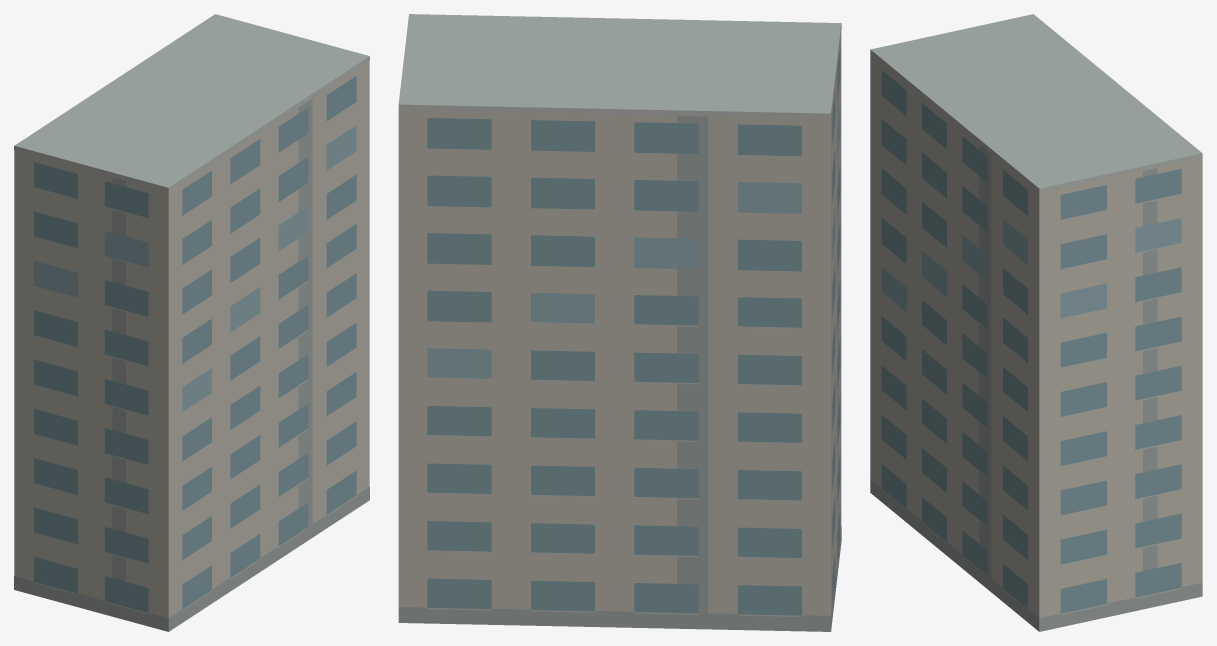
The model's file is residential-63eb0553-5158-4fc5-a041-9ebccf070c29.glb.
3 views of the same model, side by side, from view 1: azimuth 30°, elevation 25°; view 2: azimuth 150°, elevation 25°; view 3: azimuth 270°, elevation 25° (orthographic). The views are drawn at different scales.
Visible parts, largest first — view 1: residential-63eb0553-5158-4fc5-a041-9ebccf070c29.tmp; view 2: residential-63eb0553-5158-4fc5-a041-9ebccf070c29.tmp; view 3: residential-63eb0553-5158-4fc5-a041-9ebccf070c29.tmp.
Boxes of the visible parts, x1=… form: residential-63eb0553-5158-4fc5-a041-9ebccf070c29.tmp: x1=14, y1=14, x2=369, y2=631; residential-63eb0553-5158-4fc5-a041-9ebccf070c29.tmp: x1=398, y1=14, x2=841, y2=631; residential-63eb0553-5158-4fc5-a041-9ebccf070c29.tmp: x1=870, y1=14, x2=1202, y2=631.
Size of the model in its own units: 18.59 by 22 by 14.95.
